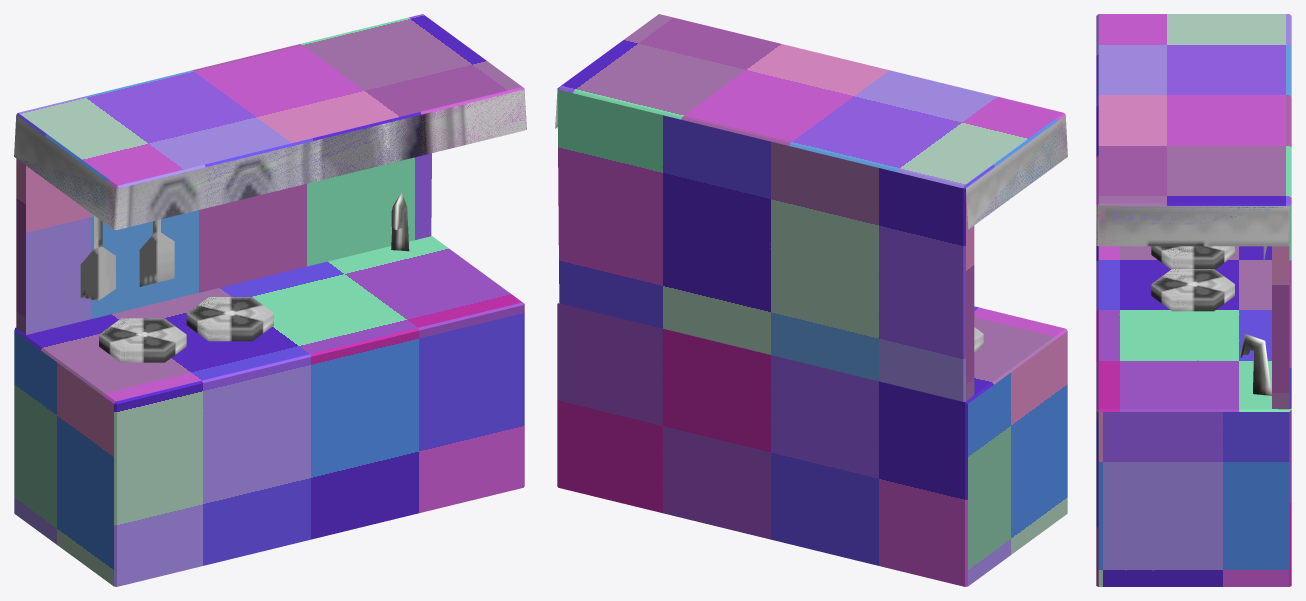
The model's file is rmk_lov_kitchen_jwl.dae.
3 views of the same model, side by side, from view 1: azimuth 30°, elevation 25°; view 2: azimuth 150°, elevation 25°; view 3: azimuth 270°, elevation 25° (orthographic). The views are drawn at different scales.
Visible parts, largest first — view 1: rmk_lov_kitchen_jwl; view 2: rmk_lov_kitchen_jwl; view 3: rmk_lov_kitchen_jwl.
Part boxes in pixels (x1,y1,x2,y2): rmk_lov_kitchen_jwl: (14,14,526,586); rmk_lov_kitchen_jwl: (555,14,1067,586); rmk_lov_kitchen_jwl: (1096,14,1291,586).
Bounding box in the file's own units: 56.21 × 52 × 24.
Materials: 2 (2 with a texture image).
